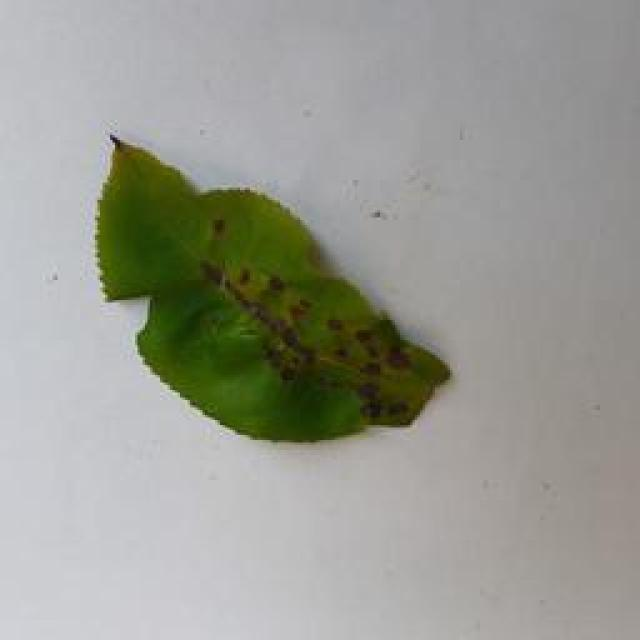Helopeltis: (78, 116, 462, 438)
